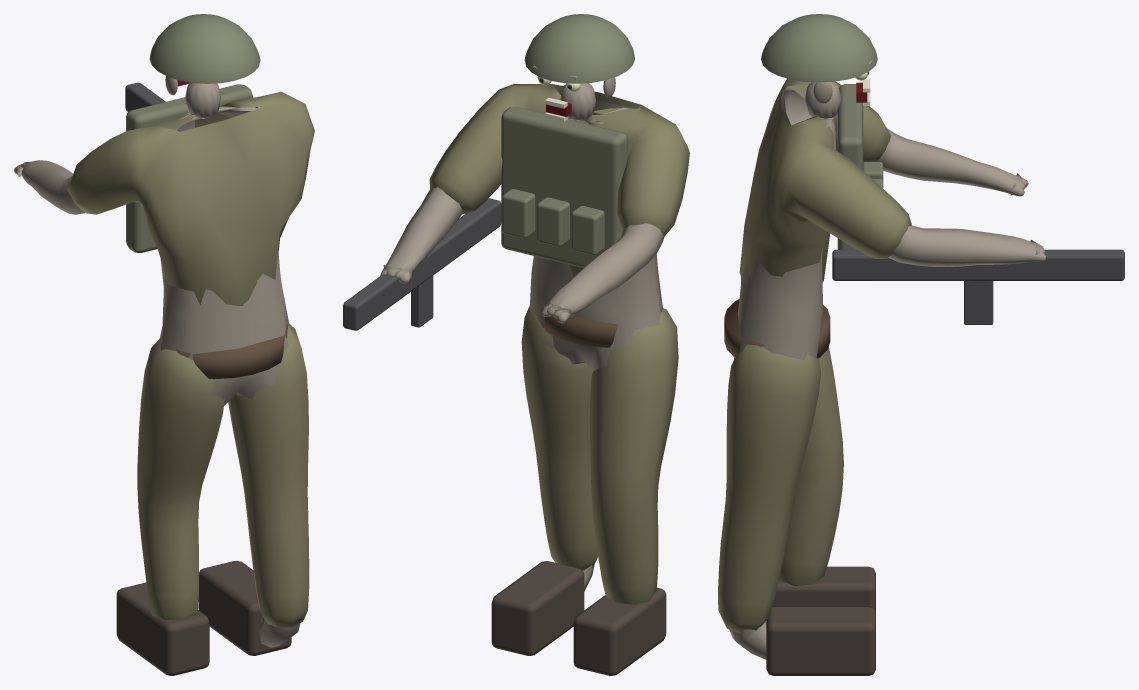
The model's file is zombie_soldier.glb.
3 views of the same model, side by side, from view 1: azimuth 30°, elevation 25°; view 2: azimuth 150°, elevation 25°; view 3: azimuth 270°, elevation 25° (orthographic).
Parts seen in each view (by area): view 1: pants, shirt, body, helmet, boot, boot.001, vest, belt, head, rifle; view 2: pants, body, shirt, vest, boot.001, helmet, boot, rifle, belt, pouch, pouch.002, pouch.001 (+2 smaller); view 3: pants, shirt, body, boot.001, rifle, helmet, boot, vest, belt, rifle_mag, head.
Boxes of the visible parts, bbox=[...] form: pants: bbox=[137, 324, 309, 627]; shirt: bbox=[67, 91, 314, 305]; body: bbox=[14, 107, 300, 647]; helmet: bbox=[149, 14, 260, 83]; boot: bbox=[116, 582, 209, 675]; boot.001: bbox=[198, 560, 291, 655]; vest: bbox=[126, 84, 252, 252]; belt: bbox=[176, 324, 287, 379]; head: bbox=[165, 76, 221, 118]; rifle: bbox=[125, 82, 165, 111]; pants: bbox=[521, 305, 678, 604]; body: bbox=[380, 100, 664, 591]; shirt: bbox=[429, 84, 689, 276]; vest: bbox=[501, 107, 627, 267]; boot.001: bbox=[491, 561, 584, 655]; helmet: bbox=[524, 14, 634, 83]; boot: bbox=[573, 587, 666, 675]; rifle: bbox=[343, 198, 501, 330]; belt: bbox=[544, 303, 662, 347]; pouch: bbox=[571, 205, 604, 255]; pouch.002: bbox=[502, 189, 535, 238]; pouch.001: bbox=[537, 197, 569, 246]; pants: bbox=[718, 344, 843, 633]; shirt: bbox=[739, 78, 911, 282]; body: bbox=[729, 86, 1045, 659]; boot.001: bbox=[766, 607, 875, 675]; rifle: bbox=[832, 249, 1124, 280]; helmet: bbox=[761, 14, 877, 82]; boot: bbox=[772, 566, 875, 612]; vest: bbox=[837, 84, 863, 249]; belt: bbox=[724, 299, 830, 358]; rifle_mag: bbox=[964, 281, 993, 324]; head: bbox=[805, 81, 840, 118].
Bounding box in the file's own units: 0.7145 × 1.9 × 1.11.
